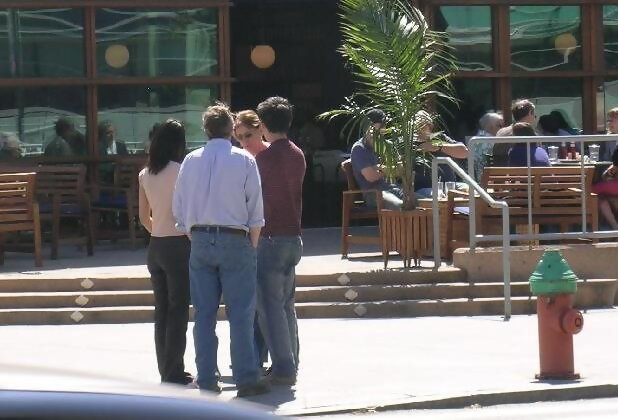person: (175, 108, 277, 391), (140, 114, 202, 387)
